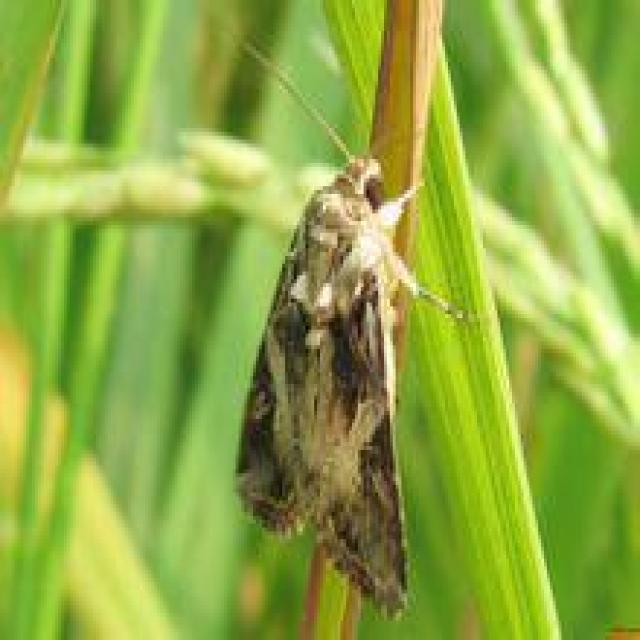armyworm: (247, 135, 428, 602)
